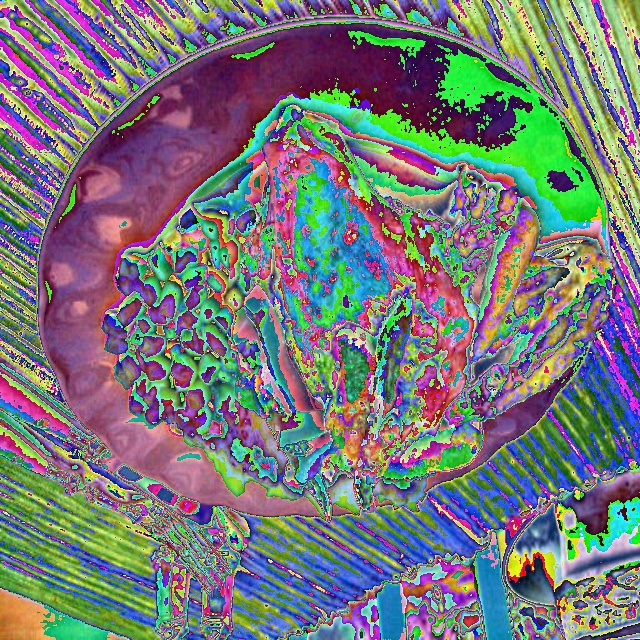background: (100, 107, 613, 524)
